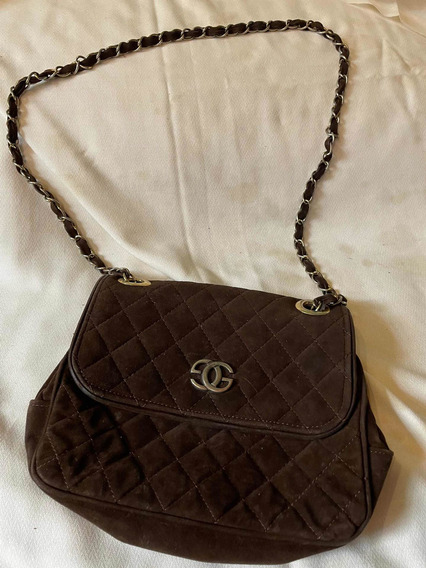cartera: (22, 268, 399, 565)
